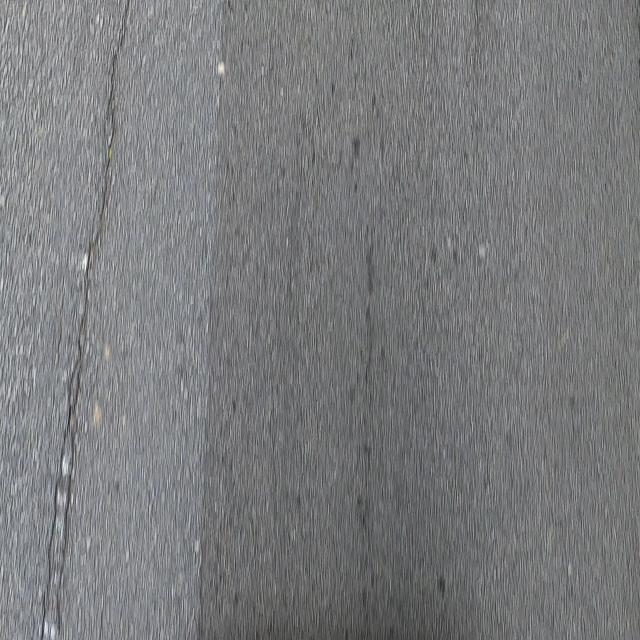Retak-Memanjang: (34, 1, 135, 635)
